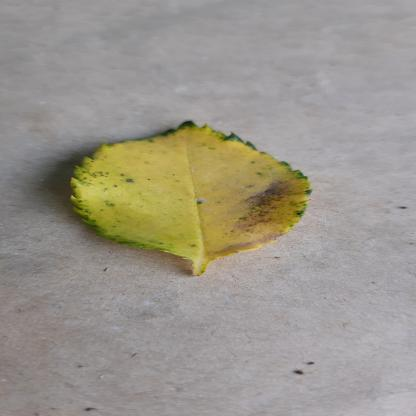black-spot: (59, 118, 317, 260)
